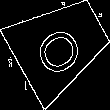O_NE: (30, 14, 91, 77)
